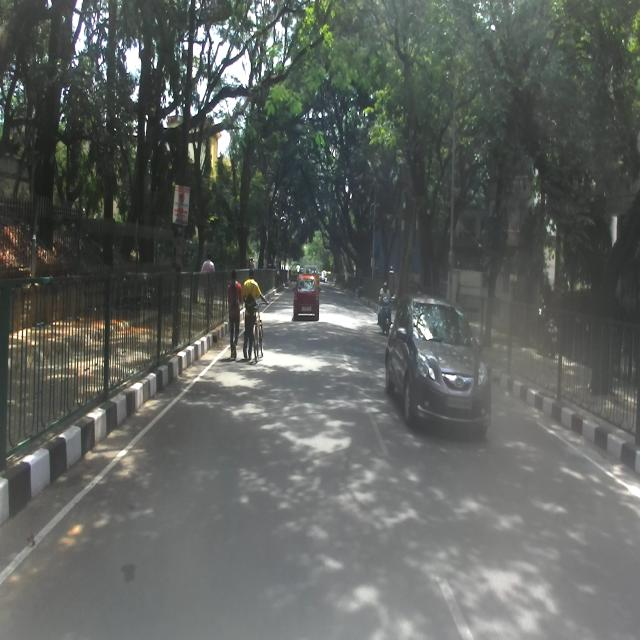car ahead at: (383, 289, 495, 436), (292, 273, 320, 322)
person ahead at: (226, 265, 244, 356)
